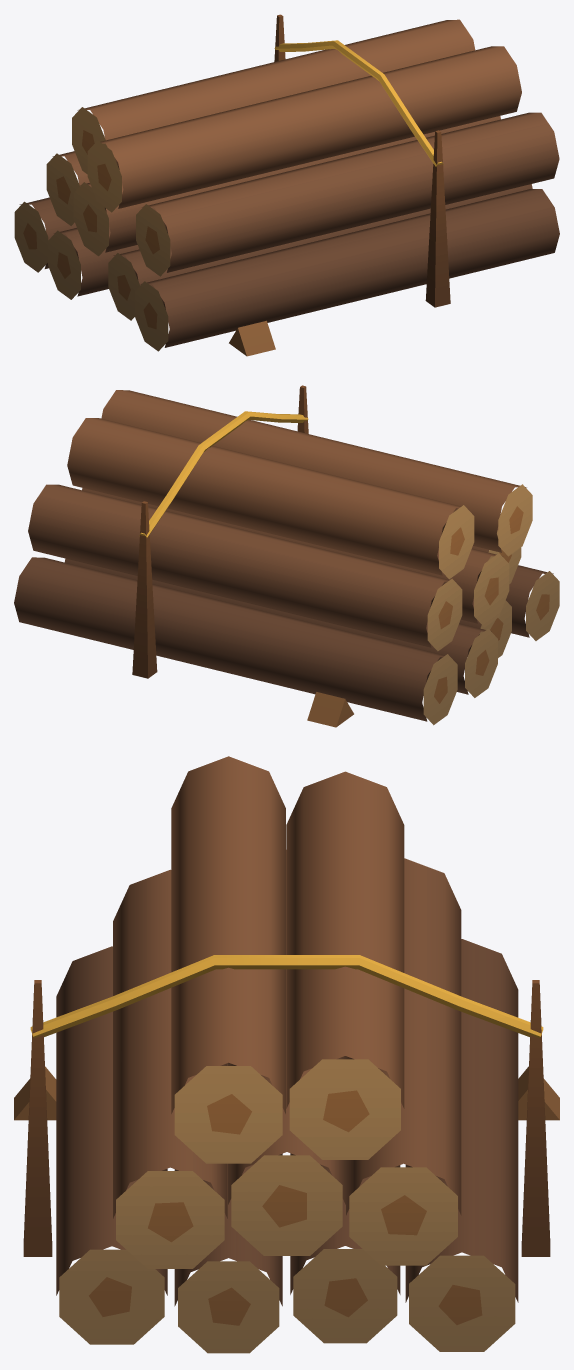
The model's file is log-pile.glb.
3 views of the same model, one above another, from view 1: azimuth 30°, elevation 25°; view 2: azimuth 150°, elevation 25°; view 3: azimuth 270°, elevation 25° (orthographic). The views are drawn at different scales.
Parts seen in each view (by area): view 1: log-pile Bark, log-pile Pale wood, log-pile Warm wood, log-pile Dark wood, log-pile Mustard; view 2: log-pile Bark, log-pile Pale wood, log-pile Warm wood, log-pile Dark wood, log-pile Mustard; view 3: log-pile Bark, log-pile Pale wood, log-pile Warm wood, log-pile Dark wood, log-pile Mustard.
Part boxes in pixels (left/top/right/bottom): log-pile Bark: left=19, top=19, right=559, bottom=347; log-pile Pale wood: left=14, top=107, right=170, bottom=351; log-pile Warm wood: left=23, top=130, right=275, bottom=356; log-pile Dark wood: left=274, top=14, right=450, bottom=307; log-pile Mustard: left=274, top=40, right=443, bottom=166; log-pile Bark: left=14, top=390, right=553, bottom=721; log-pile Pale wood: left=423, top=484, right=559, bottom=725; log-pile Warm wood: left=307, top=506, right=549, bottom=727; log-pile Dark wood: left=132, top=385, right=308, bottom=678; log-pile Mustard: left=139, top=411, right=308, bottom=538; log-pile Bark: left=56, top=756, right=518, bottom=1306; log-pile Pale wood: left=59, top=1059, right=515, bottom=1353; log-pile Warm wood: left=14, top=1066, right=559, bottom=1325; log-pile Dark wood: left=23, top=980, right=550, bottom=1256; log-pile Mustard: left=30, top=955, right=543, bottom=1037.
Bounding box in the file's own units: 3.21 × 1.36 × 2.28.
Materials: 5 (5 with a texture image).
